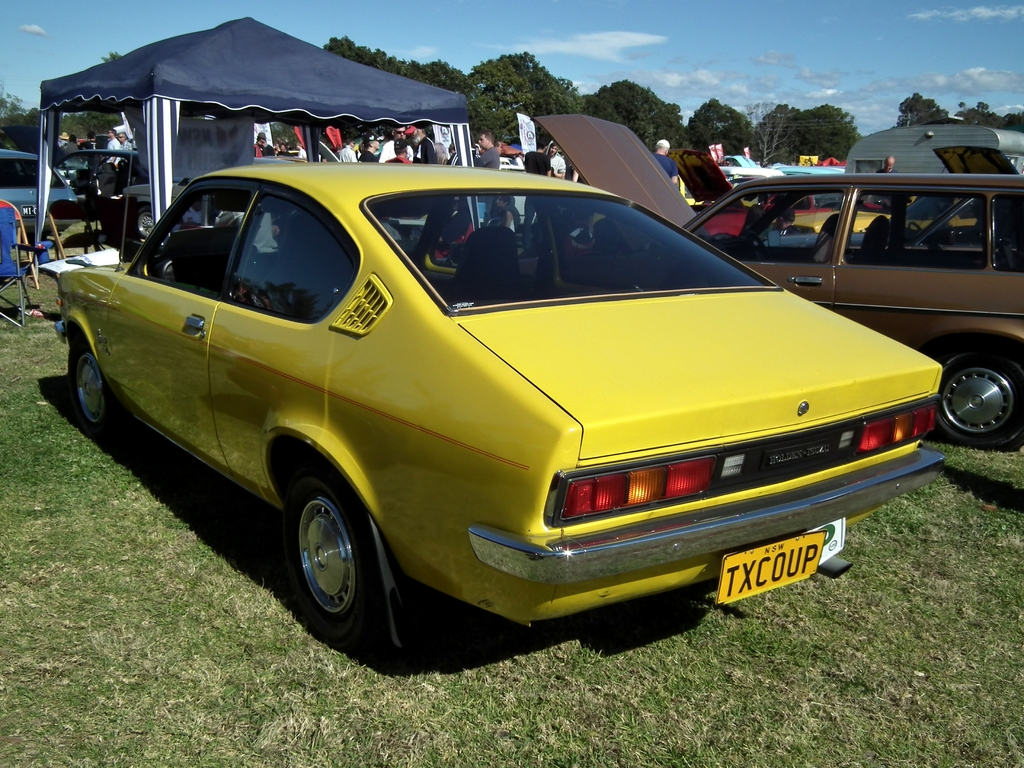cars: (53, 154, 946, 666), (539, 112, 1022, 441)
